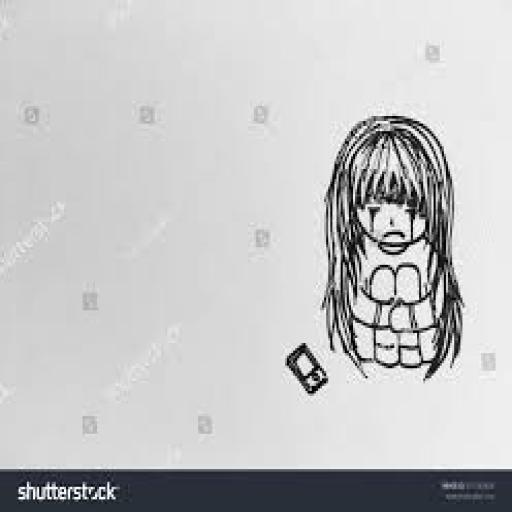person: (318, 109, 468, 384)
